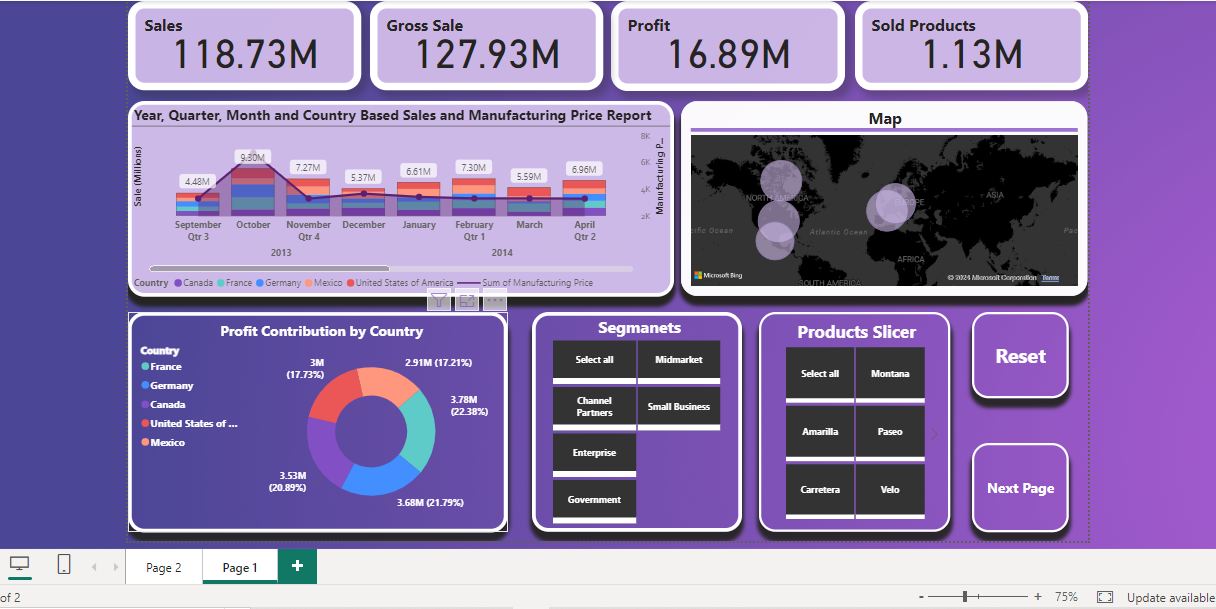

What the dashboard file says about the page in this screenshot:
{"tool":"powerbi","page":{"name":"Page 1","canvas":[1280,720],"ordinal":1},"visuals":[{"type":"card","title":"Sales","fields":{"Values":["Sum(financials. Sales)"]},"box":[0,0,311.1,119.4],"z":0},{"type":"card","title":"Profit","fields":{"Values":["Sum(financials.Profit)"]},"box":[644.1,0,312.4,119.7],"z":1000},{"type":"card","title":"Gross Sale","fields":{"Values":["Sum(financials.Gross Sales)"]},"box":[322.5,0,310.8,119.3],"z":2000},{"type":"card","title":"Sold Products","fields":{"Values":["Sum(financials.Units Sold)"]},"box":[969.4,0,311.1,119.4],"z":3000},{"type":"map","title":"Map","fields":{"Category":["financials.Country"],"Size":["Sum(financials. Sales)"]},"box":[737.7,133.5,542.3,260.1],"z":4000},{"type":"lineStackedColumnComboChart","title":"Year, Quarter, Month and Country Based Sales and Manufacturing Price Report","fields":{"Y":["Sum(financials. Sales)"],"Series":["financials.Country"],"Category":["financials.Date.Variation.Date Hierarchy.Year","financials.Date.Variation.Date Hierarchy.Quarter","financials.Date.Variation.Date Hierarchy.Month"],"Y2":["Sum(financials.Manufacturing Price)"]},"box":[0,133.3,727.6,260.9],"z":4001},{"type":"donutChart","title":"Profit Contribution by Country","fields":{"Y":["Sum(financials.Profit)"],"Category":["financials.Country"]},"box":[0,414.3,506.3,293.7],"z":4002},{"type":"slicer","title":"Segmanets","fields":{"Values":["financials.Segment"]},"box":[538.7,414.7,280,293.3],"z":4003},{"type":"slicer","title":"Products Slicer","fields":{"Values":["financials.Product"]},"box":[841.3,414.7,254.7,293.3],"z":4004},{"type":"actionButton","title":"Next Page","box":[1125.3,589.3,129.3,118.7],"z":4008},{"type":"actionButton","box":[1125.2,415.3,129.5,114.6],"z":4010}]}

Visuals, with their boxes on the page's 1280x720 design canvas (x1, y1, x2, y2). These are canvas units, not pixel positions in the 1216x609 screenshot, which may show the page scaled, cropped or inside an application window:
"Sales" card: select_region(0, 0, 311, 119)
"Profit" card: select_region(644, 0, 956, 120)
"Gross Sale" card: select_region(322, 0, 633, 119)
"Sold Products" card: select_region(969, 0, 1280, 119)
"Map" map: select_region(738, 134, 1280, 394)
"Year, Quarter, Month and Country Based Sales and Manufacturing Price Report" lineStackedColumnComboChart: select_region(0, 133, 728, 394)
"Profit Contribution by Country" donutChart: select_region(0, 414, 506, 708)
"Segmanets" slicer: select_region(539, 415, 819, 708)
"Products Slicer" slicer: select_region(841, 415, 1096, 708)
"Next Page" actionButton: select_region(1125, 589, 1255, 708)
actionButton: select_region(1125, 415, 1255, 530)
